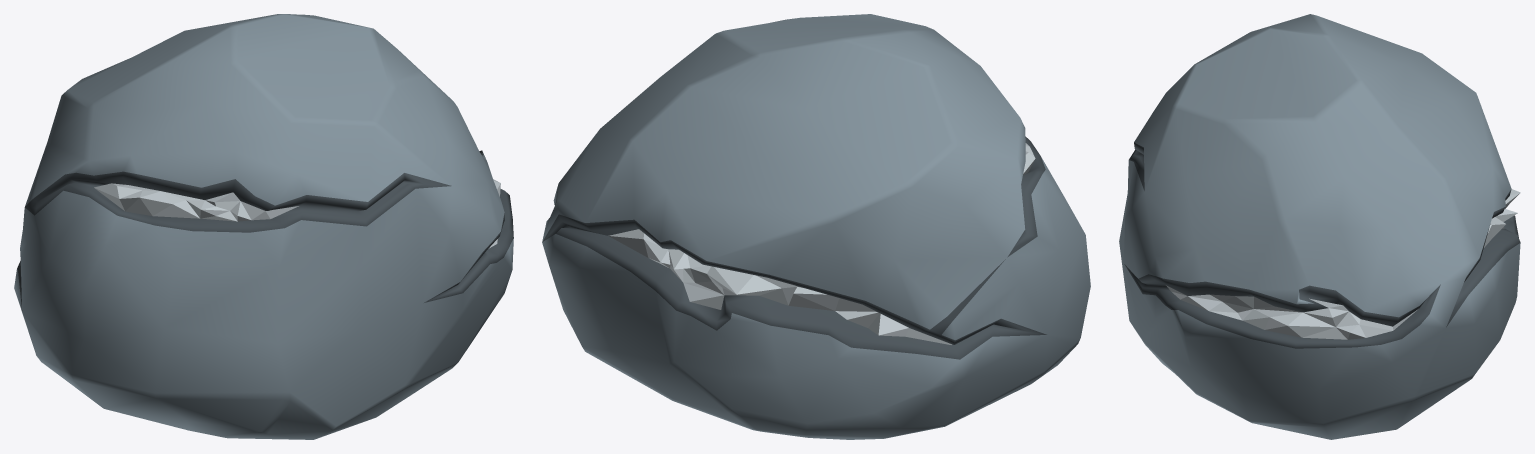
File: PT_Ore_Rock_01.fbx
The picture shows the model from 3 angles, left to right: view 1: azimuth 30°, elevation 25°; view 2: azimuth 150°, elevation 25°; view 3: azimuth 270°, elevation 25°; orthographic projection. The views are drawn at different scales.
Parts seen in each view (by area): view 1: PT_Ore_Rock_01_LOD0; view 2: PT_Ore_Rock_01_LOD0; view 3: PT_Ore_Rock_01_LOD0.
Part boxes in pixels (x1,y1,x2,y2): PT_Ore_Rock_01_LOD0: [14, 14, 513, 439]; PT_Ore_Rock_01_LOD0: [542, 14, 1090, 439]; PT_Ore_Rock_01_LOD0: [1119, 14, 1520, 439].
Size of what is drawn, in the model's own units: 63.25 by 46.96 by 52.31.
Materials: 1 (1 with a texture image).
